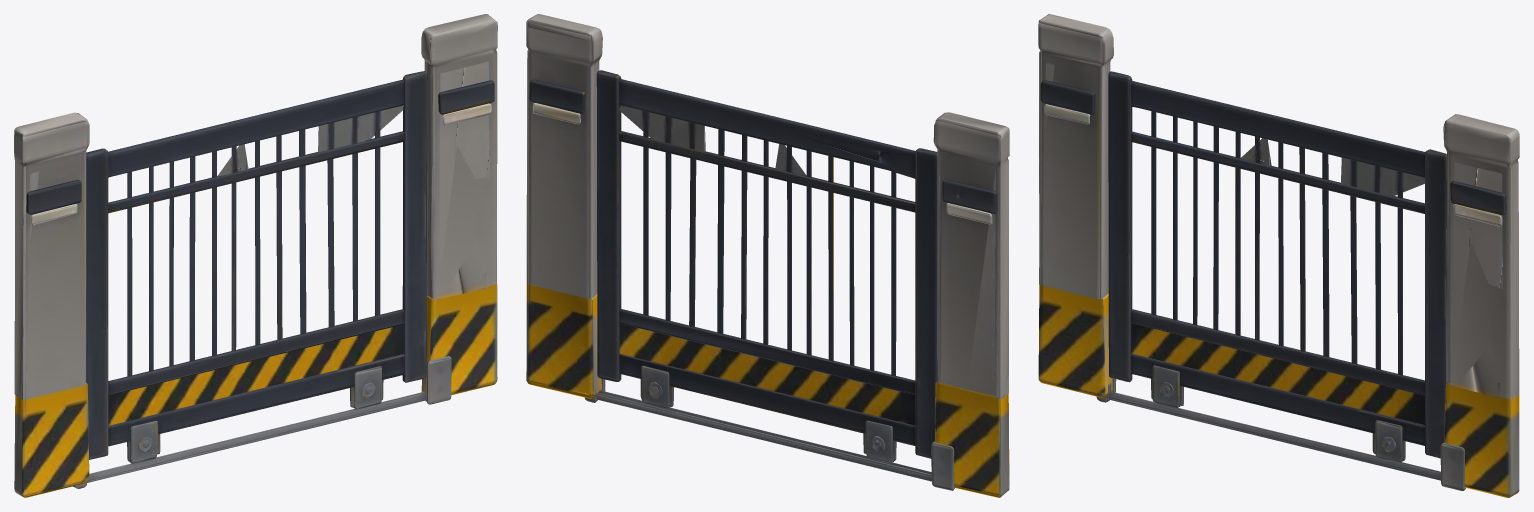
The model's file is vehicle-gate.glb.
The picture shows the model from 3 angles, left to right: view 1: azimuth 30°, elevation 25°; view 2: azimuth 150°, elevation 25°; view 3: azimuth 330°, elevation 25°; orthographic projection.
Visible parts, largest first — view 1: meshy-vehicle-gate; view 2: meshy-vehicle-gate; view 3: meshy-vehicle-gate.
Part boxes in pixels (left/top/right/bottom): meshy-vehicle-gate: left=14, top=14, right=497, bottom=497; meshy-vehicle-gate: left=526, top=14, right=1009, bottom=497; meshy-vehicle-gate: left=1038, top=14, right=1519, bottom=497.
Bounding box in the file's own units: 4 × 3 × 0.18.
1 material, 1 textured.
